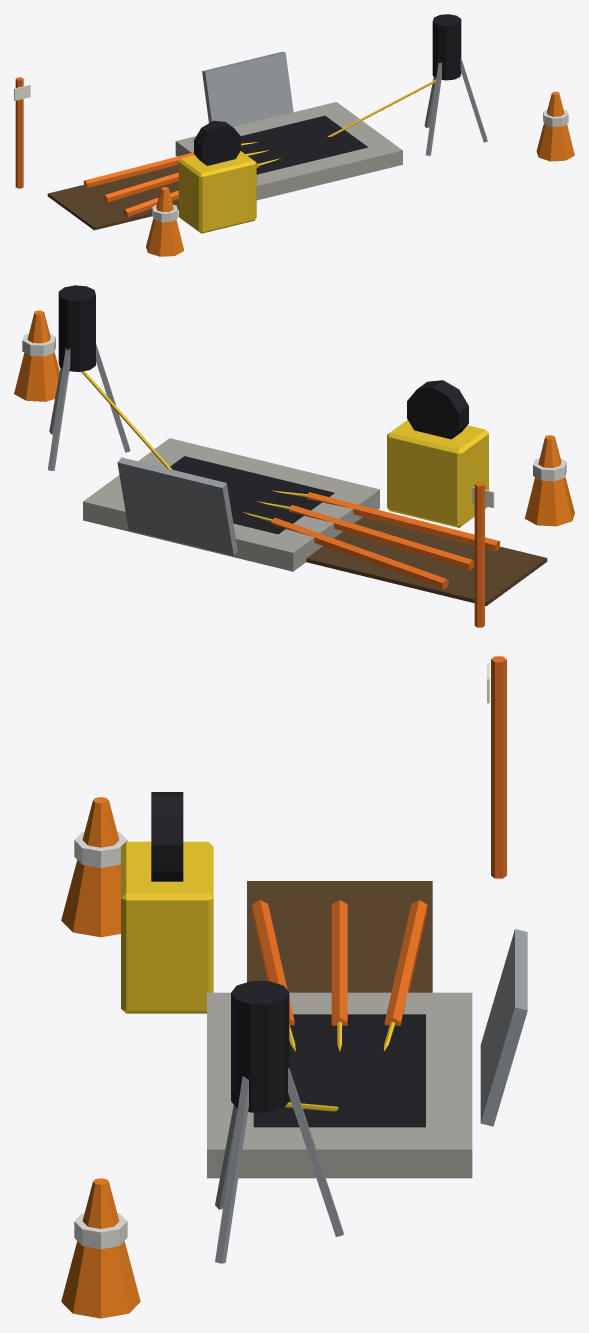
Rendered from site.fibre-joint.glb.
The picture shows the model from 3 angles, top to bottom: view 1: azimuth 30°, elevation 25°; view 2: azimuth 150°, elevation 25°; view 3: azimuth 270°, elevation 25°; orthographic projection. The views are drawn at different scales.
Visible parts, largest first — view 1: chamber, blower, lid, hole, trench, closure, blower-reel, cone1, cone0, duct2, route-post, duct1 (+5 smaller); view 2: chamber, blower, trench, lid, hole, closure, blower-reel, cone0, cone1, duct1, duct0, duct2 (+6 smaller); view 3: chamber, trench, hole, blower, closure, cone1, lid, cone0, route-post, blower-reel, duct2, duct1 (+5 smaller).
Boxes of the visible parts, x1,y1,x2,y2 form: chamber: (175,102,402,200); blower: (178,151,256,233); lid: (202,51,293,126); hole: (241,115,368,174); trench: (47,165,178,230); closure: (432,14,461,80); blower-reel: (194,120,240,165); cone1: (536,91,574,161); cone0: (146,187,184,256); duct2: (83,152,194,188); route-post: (15,77,23,188); duct1: (103,172,178,202); chamber: (83,438,379,571); blower: (387,419,488,527); trench: (306,517,547,605); lid: (117,457,237,555); hole: (170,456,334,534); closure: (58,285,95,371); blower-reel: (407,380,468,439); cone0: (525,435,574,526); cone1: (14,310,59,401); duct1: (289,505,474,569); duct0: (306,492,500,550); duct2: (271,517,448,588); chamber: (207,992,472,1178); trench: (247,881,432,992); hole: (253,1014,425,1127); blower: (121,841,213,1013); closure: (231,981,289,1112); cone1: (61,1178,140,1318); lid: (480,929,527,1126); cone0: (61,797,120,937); route-post: (491,656,506,878); blower-reel: (151,792,183,881); duct2: (384,900,427,1025); duct1: (331,900,347,1025).
Size of the model in its own units: 4.02 by 1.01 by 1.76.
